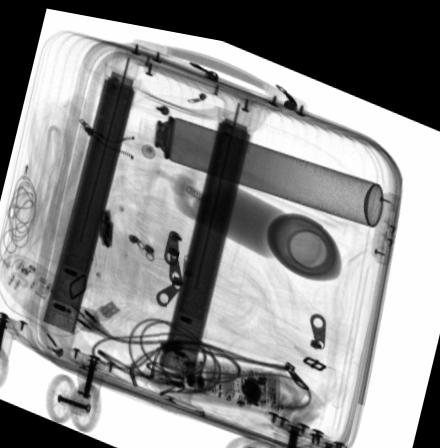Sprayer: (120, 96, 384, 212)
